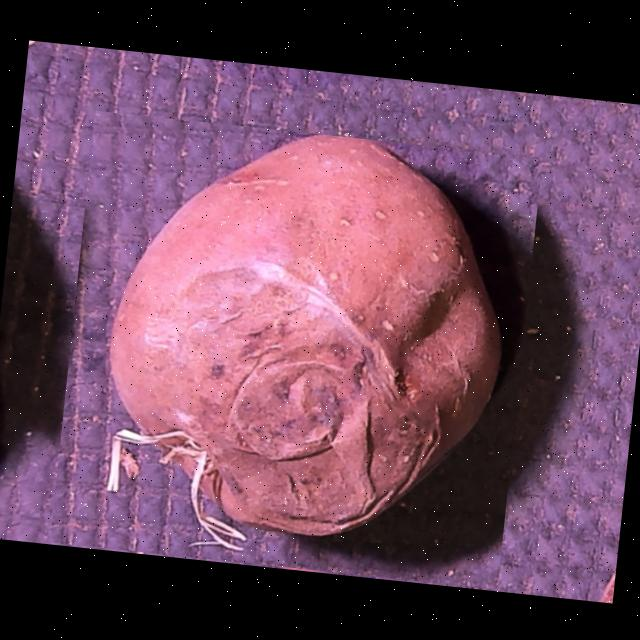Damaged potato: (49, 109, 542, 588)
